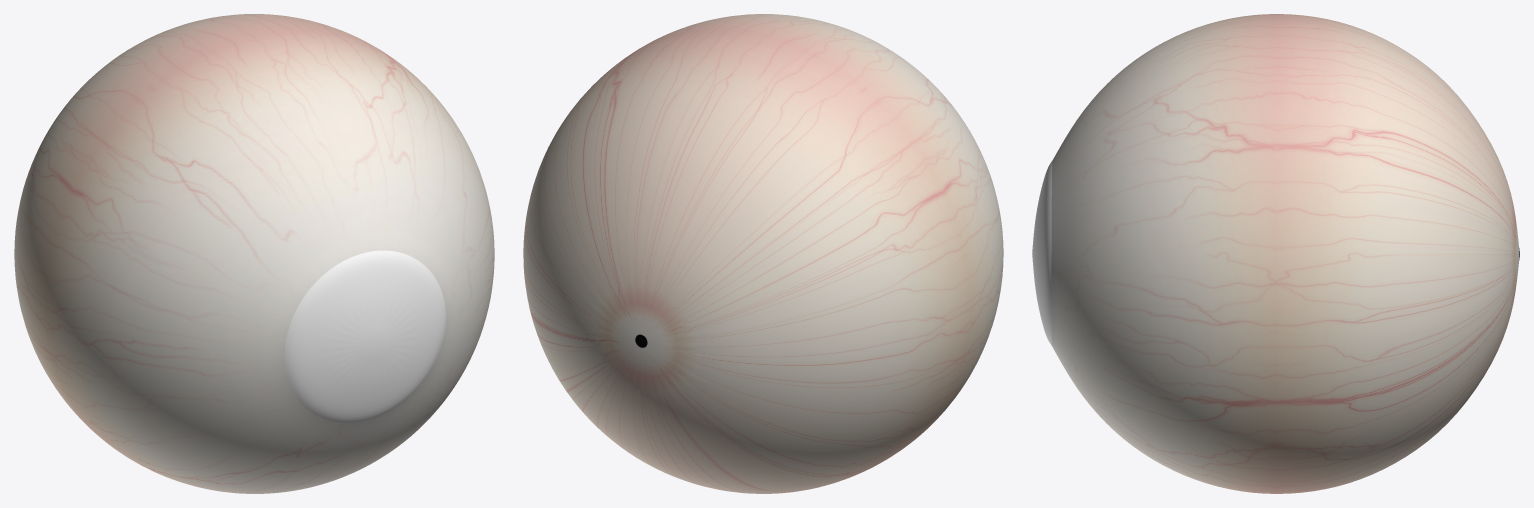
The model's file is eyeball.glb.
The picture shows the model from 3 angles, left to right: view 1: azimuth 30°, elevation 25°; view 2: azimuth 150°, elevation 25°; view 3: azimuth 270°, elevation 25°; orthographic projection.
Parts seen in each view (by area): view 1: eyeball_1, eyeball_1.003; view 2: eyeball_1; view 3: eyeball_1, eyeball_1.003.
Boxes of the visible parts, x1,y1,x2,y2 form: eyeball_1: [14, 14, 494, 493]; eyeball_1.003: [284, 250, 445, 422]; eyeball_1: [523, 14, 1003, 493]; eyeball_1: [1051, 14, 1519, 493]; eyeball_1.003: [1032, 161, 1052, 344].
Size of the model in its own units: 3.86 by 3.86 by 3.92.
Materials: 4 (4 with a texture image).
